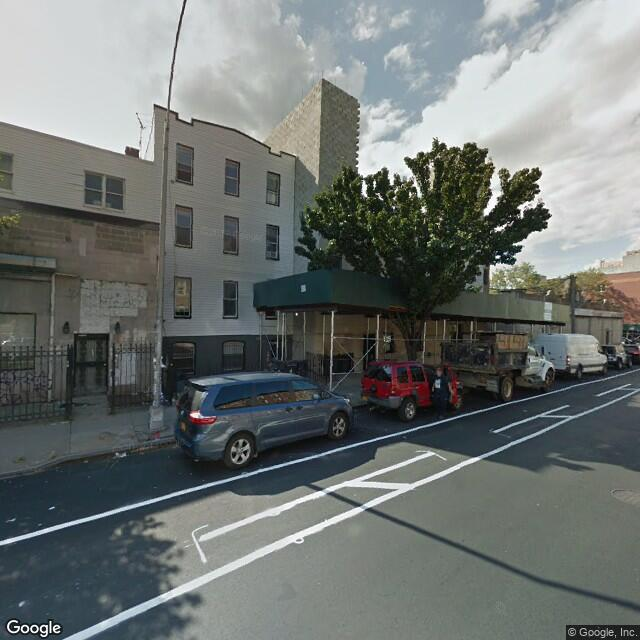litter: (114, 452, 129, 460)
